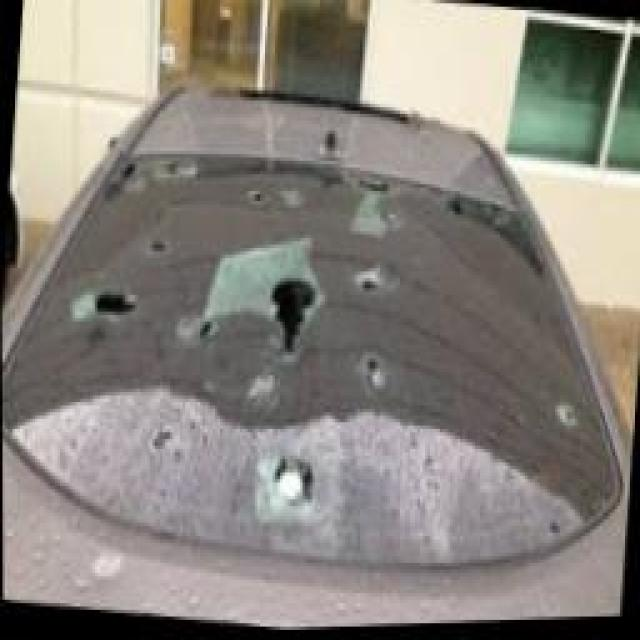replaceable: (73, 189, 592, 522)
